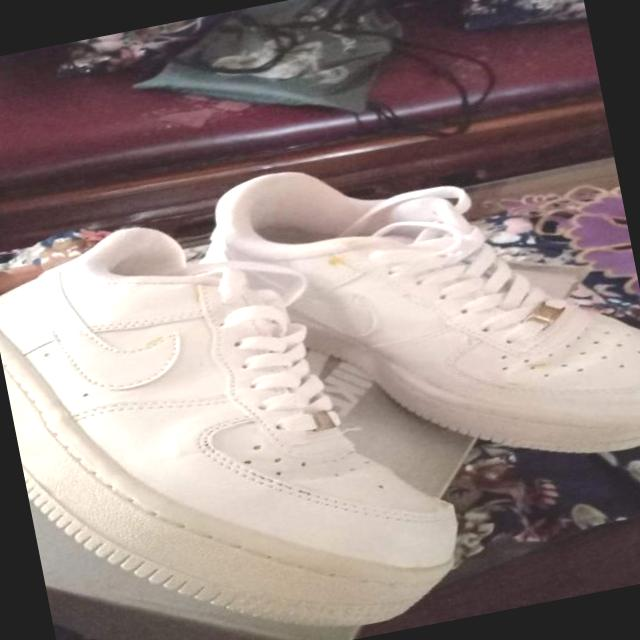nike_fake_airforce: (0, 178, 477, 640), (200, 105, 640, 518)
